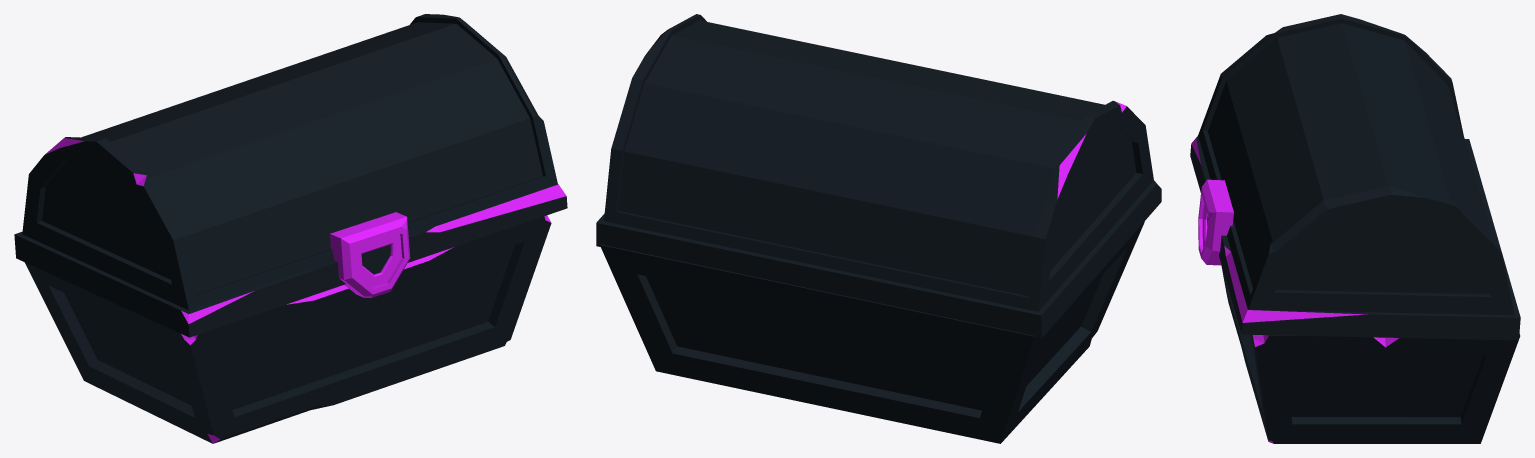
Rendered from closed_chest.glb.
3 renders of one model, left to right at view 1: azimuth 30°, elevation 25°; view 2: azimuth 150°, elevation 25°; view 3: azimuth 270°, elevation 25°, orthographic. The views are drawn at different scales.
Parts seen in each view (by area): view 1: Plane.001; view 2: Plane.001; view 3: Plane.001.
Part boxes in pixels (box(x1,y1,x2,y2)): Plane.001: box(14, 14, 567, 443); Plane.001: box(596, 14, 1161, 443); Plane.001: box(1190, 14, 1520, 443).
Bounding box in the file's own units: 4.79 × 3.13 × 3.3.
Materials: 1 (1 with a texture image).
